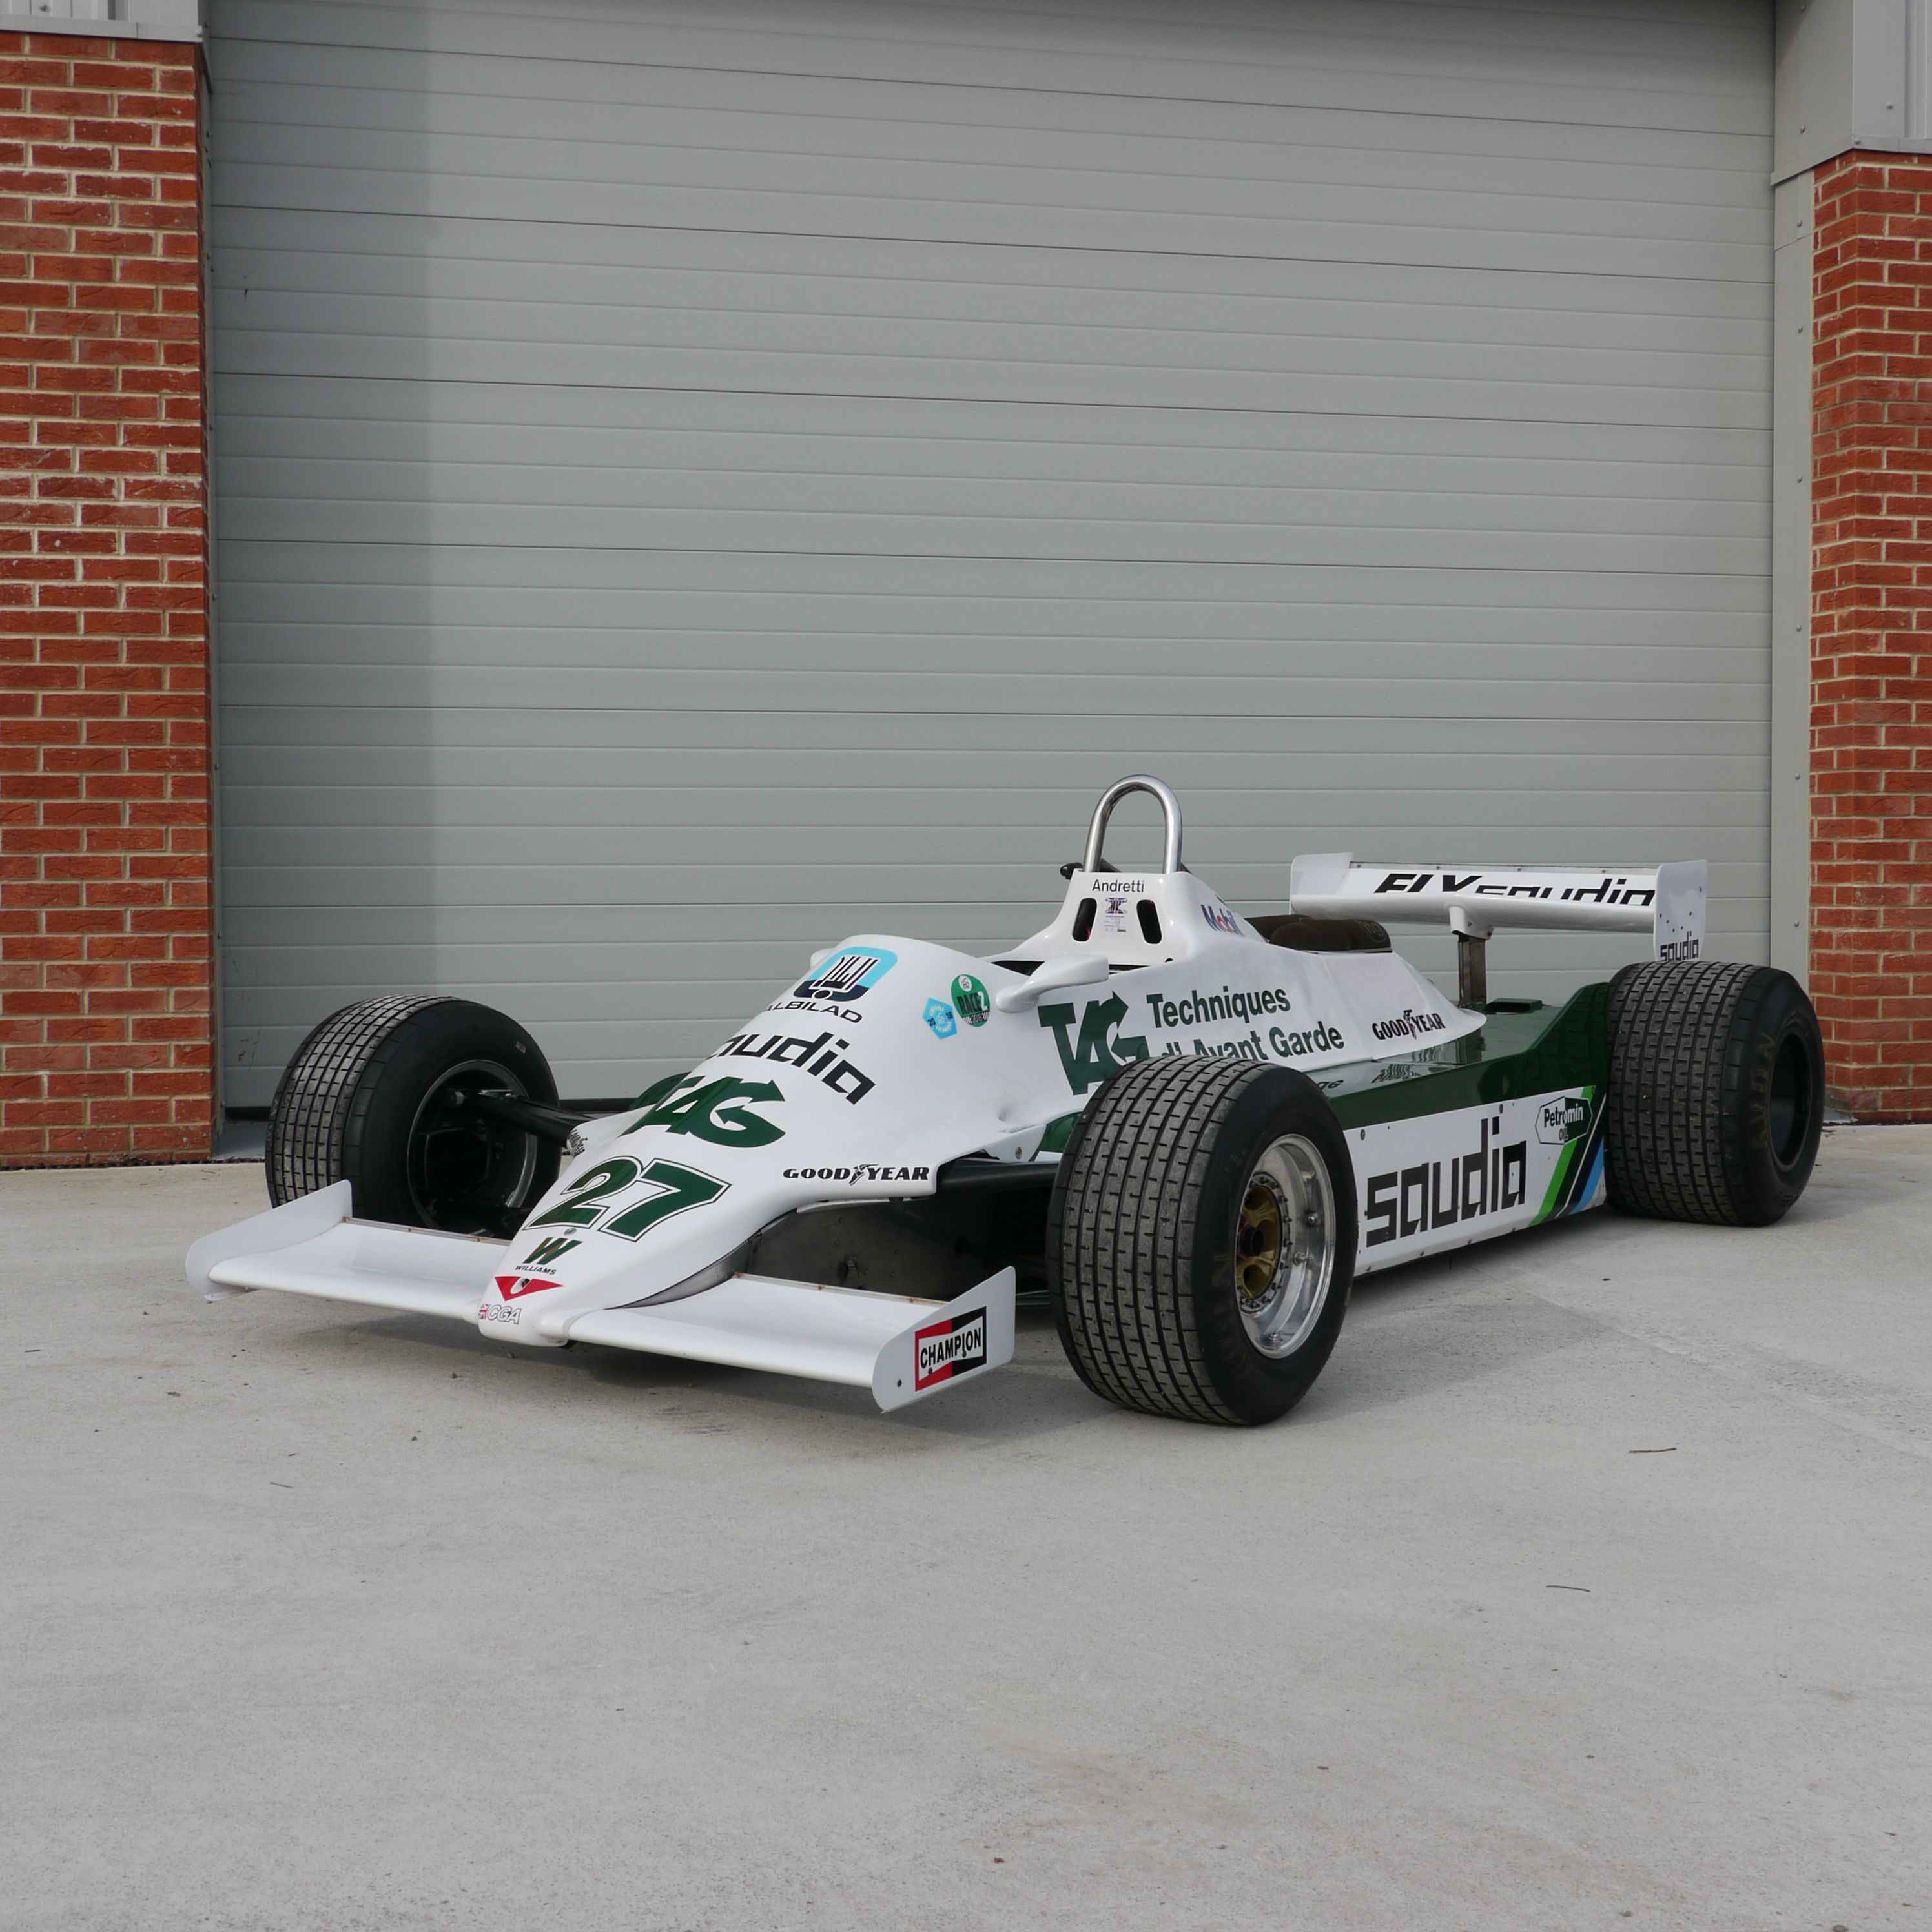f1_car: (173, 764, 1863, 1456)
